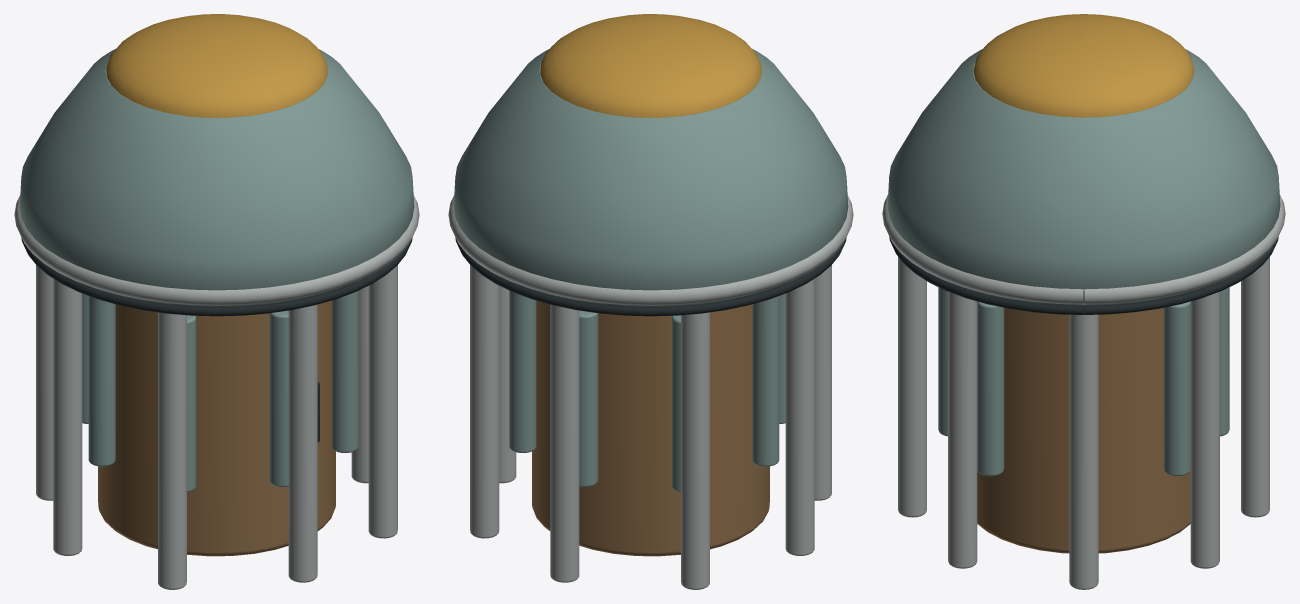
The picture shows the model from 3 angles, left to right: view 1: azimuth 30°, elevation 25°; view 2: azimuth 150°, elevation 25°; view 3: azimuth 270°, elevation 25°; orthographic projection.
Visible parts, largest first — view 1: Hydration bell shaped head, Hydration lower bronze reservoir, Hydration gold top cap, Hydration external support column.006, Hydration external support column.004, Hydration external support column.005, Hydration external support column.007, Hydration head lower rim, Hydration suspended filter tube.004, Hydration suspended filter tube.007, Hydration external support column.003, Hydration head lower gasket (+4 smaller); view 2: Hydration bell shaped head, Hydration lower bronze reservoir, Hydration gold top cap, Hydration external support column.002, Hydration external support column.004, Hydration external support column.003, Hydration external support column.001, Hydration head lower rim, Hydration suspended filter tube.004, Hydration suspended filter tube.001, Hydration external support column.005, Hydration head lower gasket (+4 smaller); view 3: Hydration bell shaped head, Hydration lower bronze reservoir, Hydration gold top cap, Hydration external support column, Hydration external support column.001, Hydration external support column.007, Hydration external support column.002, Hydration external support column.006, Hydration head lower rim, Hydration suspended filter tube.001, Hydration suspended filter tube.007, Hydration head lower gasket (+2 smaller).
Part boxes in pixels (left/top/right/bottom): Hydration bell shaped head: left=19, top=49, right=414, bottom=307; Hydration lower bronze reservoir: left=98, top=300, right=335, bottom=556; Hydration gold top cap: left=106, top=14, right=327, bottom=117; Hydration external support column.006: left=288, top=304, right=317, bottom=582; Hydration external support column.004: left=53, top=279, right=82, bottom=555; Hydration external support column.005: left=158, top=312, right=186, bottom=589; Hydration external support column.007: left=368, top=265, right=397, bottom=538; Hydration head lower rim: left=14, top=195, right=419, bottom=305; Hydration suspended filter tube.004: left=88, top=296, right=115, bottom=466; Hydration suspended filter tube.007: left=331, top=290, right=358, bottom=452; Hydration external support column.003: left=36, top=265, right=53, bottom=500; Hydration head lower gasket: left=21, top=237, right=412, bottom=316; Hydration bell shaped head: left=453, top=49, right=848, bottom=307; Hydration lower bronze reservoir: left=532, top=300, right=769, bottom=556; Hydration gold top cap: left=540, top=14, right=761, bottom=117; Hydration external support column.002: left=550, top=304, right=579, bottom=582; Hydration external support column.004: left=785, top=279, right=814, bottom=555; Hydration external support column.003: left=681, top=312, right=709, bottom=589; Hydration external support column.001: left=470, top=265, right=499, bottom=538; Hydration head lower rim: left=448, top=195, right=853, bottom=305; Hydration suspended filter tube.004: left=752, top=296, right=779, bottom=466; Hydration suspended filter tube.001: left=509, top=290, right=536, bottom=452; Hydration external support column.005: left=814, top=265, right=831, bottom=500; Hydration head lower gasket: left=455, top=237, right=846, bottom=316; Hydration bell shaped head: left=887, top=49, right=1280, bottom=305; Hydration lower bronze reservoir: left=977, top=308, right=1190, bottom=553; Hydration gold top cap: left=973, top=14, right=1194, bottom=117; Hydration external support column: left=1069, top=314, right=1098, bottom=589; Hydration external support column.001: left=1190, top=291, right=1219, bottom=568; Hydration external support column.007: left=948, top=291, right=977, bottom=568; Hydration external support column.002: left=1241, top=257, right=1269, bottom=517; Hydration external support column.006: left=898, top=257, right=926, bottom=517; Hydration head lower rim: left=882, top=194, right=1285, bottom=304; Hydration suspended filter tube.001: left=1163, top=301, right=1190, bottom=476; Hydration suspended filter tube.007: left=977, top=301, right=1004, bottom=476; Hydration head lower gasket: left=889, top=237, right=1278, bottom=314.
Size of the model in its own units: 2.07 by 2.69 by 2.07.
